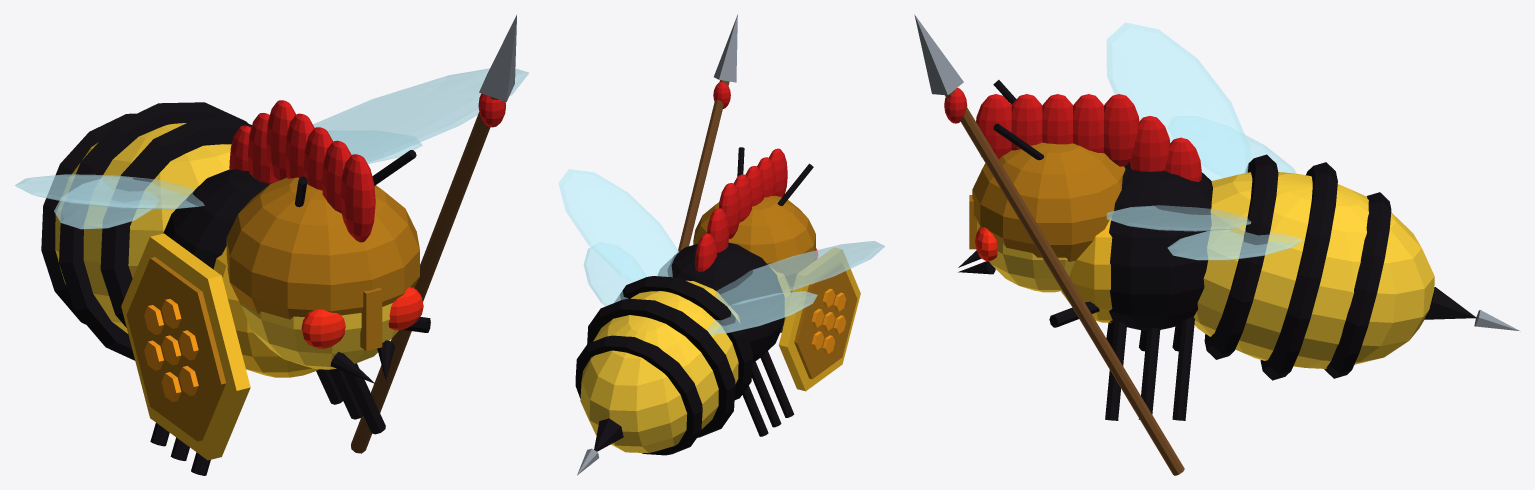
File: AbejaGuerrera.fbx
The picture shows the model from 3 angles, left to right: view 1: azimuth 30°, elevation 25°; view 2: azimuth 150°, elevation 25°; view 3: azimuth 270°, elevation 25°; orthographic projection. The views are drawn at different scales.
Parts seen in each view (by area): view 1: Cuerpo, Alas, Brillo_Miel, Brillo_RojoBrillo; view 2: Cuerpo, Alas, Brillo_Miel; view 3: Cuerpo, Alas.
Part boxes in pixels (box(x1,y1,x2,y2)): Cuerpo: box(41, 15, 516, 475); Alas: box(14, 68, 529, 229); Brillo_Miel: box(144, 299, 198, 401); Brillo_RojoBrillo: box(301, 287, 423, 348); Cuerpo: box(575, 14, 860, 475); Alas: box(558, 169, 885, 334); Brillo_Miel: box(811, 288, 846, 354); Cuerpo: box(914, 14, 1520, 475); Alas: box(1106, 22, 1302, 260).
Bounding box in the file's own units: 498 × 528 × 630.
Materials: 2 (2 with a texture image).
